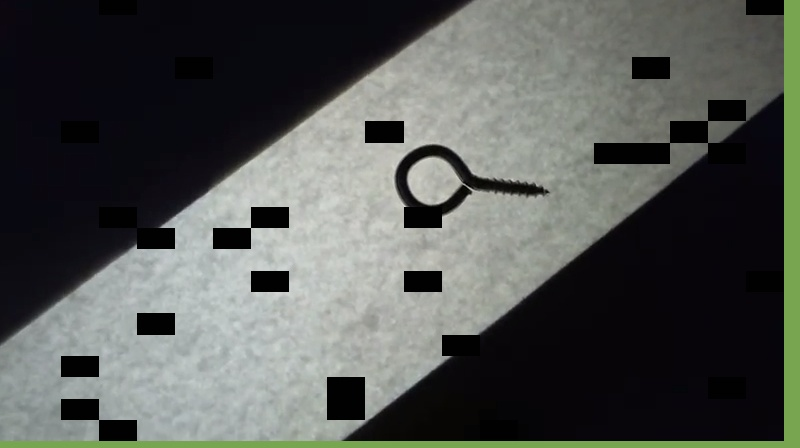O001: (393, 142, 556, 220)
